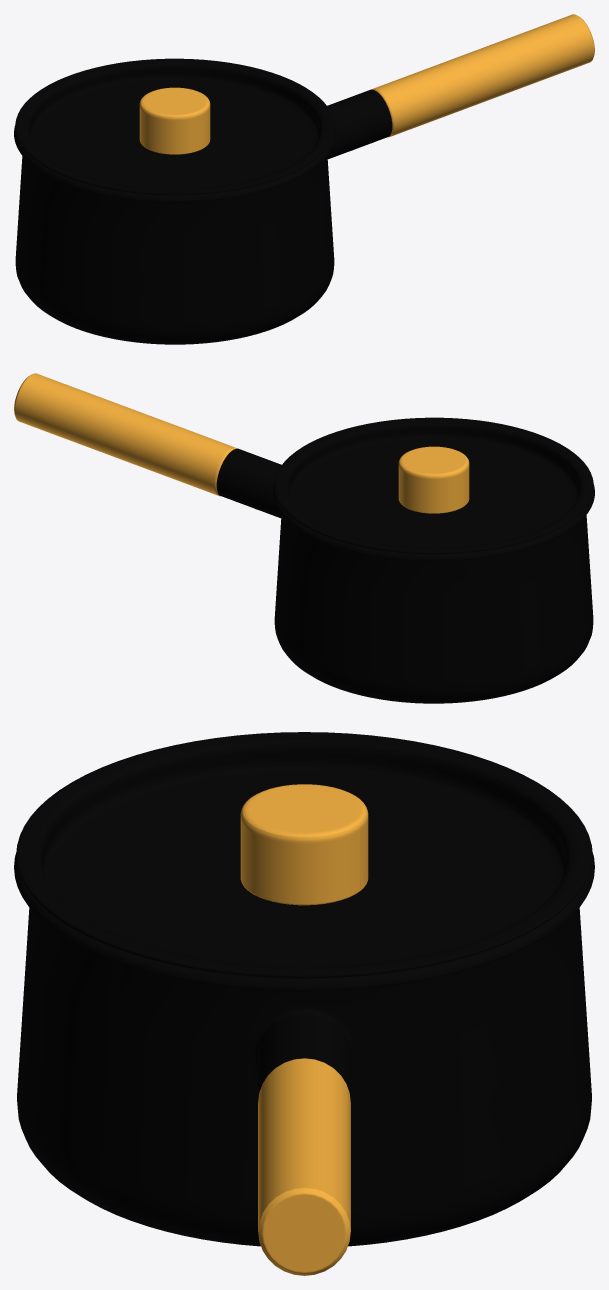
Rendered from Saucepan.fbx.
3 renders of one model, top to bottom at view 1: azimuth 30°, elevation 25°; view 2: azimuth 150°, elevation 25°; view 3: azimuth 270°, elevation 25°, orthographic. The views are drawn at different scales.
Parts seen in each view (by area): view 1: 04_Kaico_s, Object01, Object02; view 2: 04_Kaico_s, Object01, Object02; view 3: 04_Kaico_s, Object01, Object02.
Boxes of the visible parts, <box> form: 04_Kaico_s: <box>14,58,392,344</box>; Object01: <box>371,14,594,137</box>; Object02: <box>139,87,210,154</box>; 04_Kaico_s: <box>216,417,594,703</box>; Object01: <box>14,373,237,496</box>; Object02: <box>398,446,469,513</box>; 04_Kaico_s: <box>14,732,594,1246</box>; Object01: <box>258,1058,350,1275</box>; Object02: <box>240,784,368,905</box>.
Bounding box in the file's own units: 10000 × 3201 × 5070.
